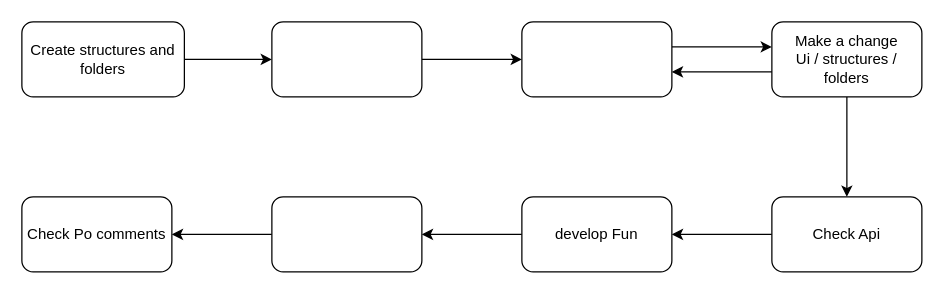
Image size: 944x294. Some labels were removed from this diagram. Here are the shapes that lost their labels. From the top down, the centre of each, then its label:
the point at 346,59: develop UI
the point at 596,59: Spect / Demo
the point at 346,234: Test Angular
